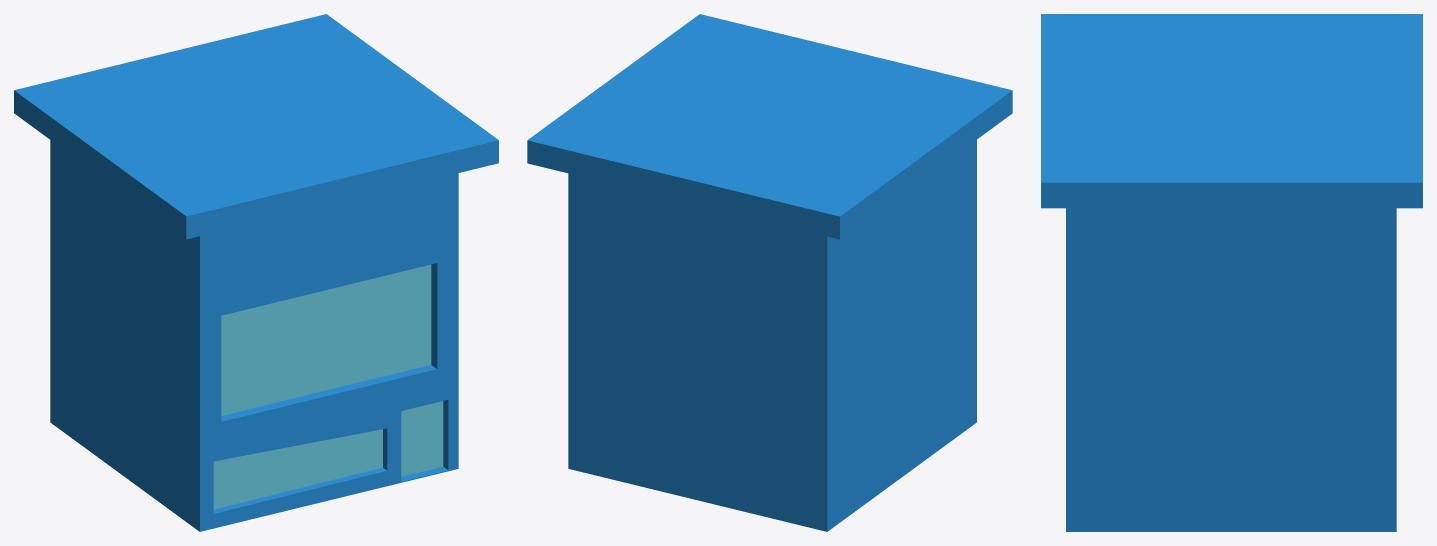
The model's file is wafla1.fbx.
The picture shows the model from 3 angles, left to right: view 1: azimuth 30°, elevation 25°; view 2: azimuth 150°, elevation 25°; view 3: azimuth 270°, elevation 25°; orthographic projection. The views are drawn at different scales.
Parts seen in each view (by area): view 1: Cube, Cube.001, Cube.003, Cube.002; view 2: Cube; view 3: Cube.
Boxes of the visible parts, bbox=[...] form: Cube: bbox=[14, 14, 498, 531]; Cube.001: bbox=[221, 264, 431, 415]; Cube.003: bbox=[213, 429, 382, 509]; Cube.002: bbox=[401, 401, 443, 476]; Cube: bbox=[527, 14, 1012, 531]; Cube: bbox=[1041, 14, 1422, 531].
Bounding box in the file's own units: 242 × 243 × 231.
